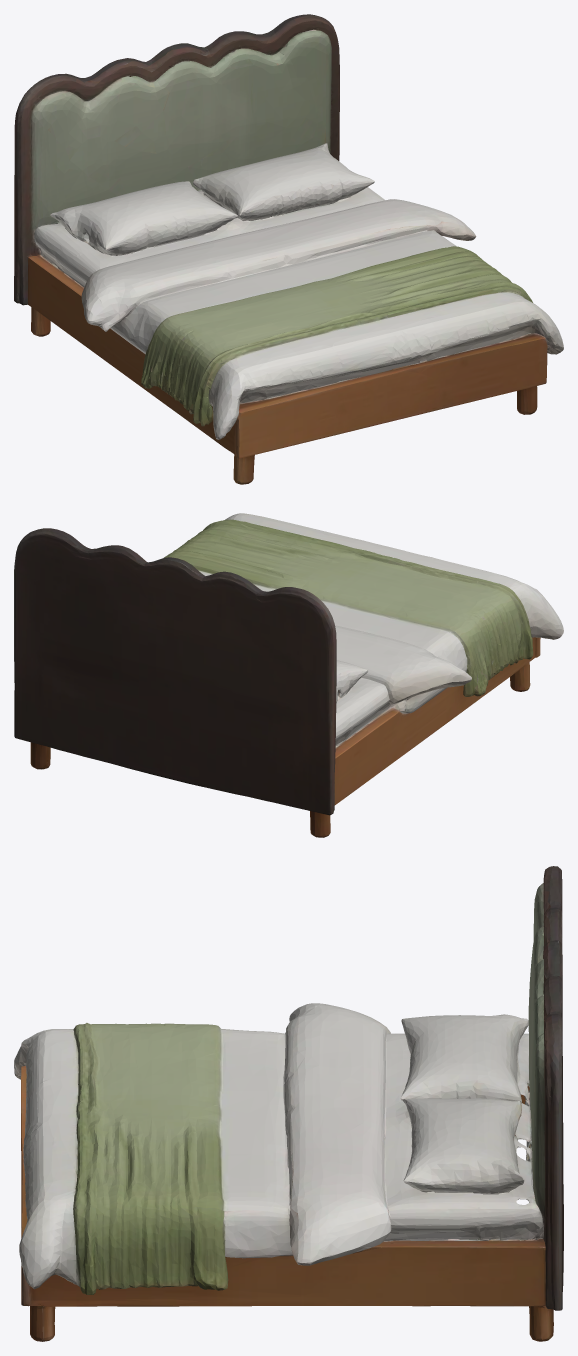
Rendered from ast_526f65606601.glb.
3 renders of one model, top to bottom at view 1: azimuth 30°, elevation 25°; view 2: azimuth 150°, elevation 25°; view 3: azimuth 270°, elevation 25°, orthographic. The views are drawn at different scales.
Parts seen in each view (by area): view 1: geometry_0; view 2: geometry_0; view 3: geometry_0.
Boxes of the visible parts, <box> form: geometry_0: <box>14,14,563,484</box>; geometry_0: <box>14,513,563,837</box>; geometry_0: <box>14,866,563,1341</box>.
Size of the model in its own units: 1 by 0.6105 by 0.9881.
1 material, 1 textured.
